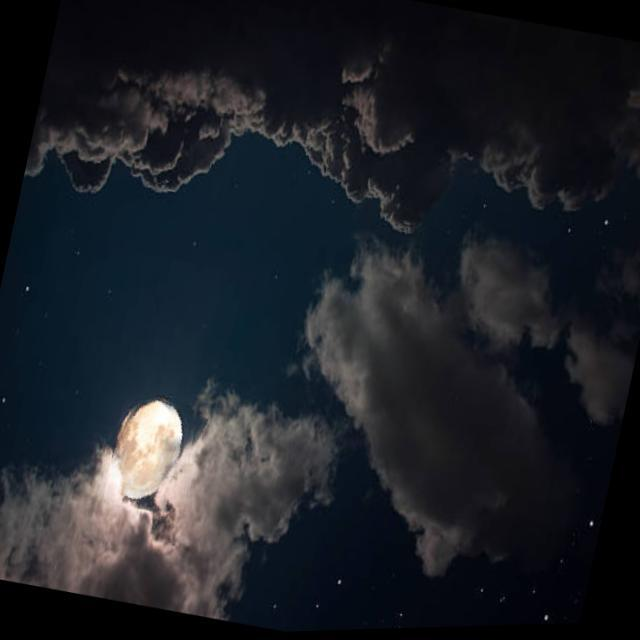moon: (102, 390, 205, 520)
